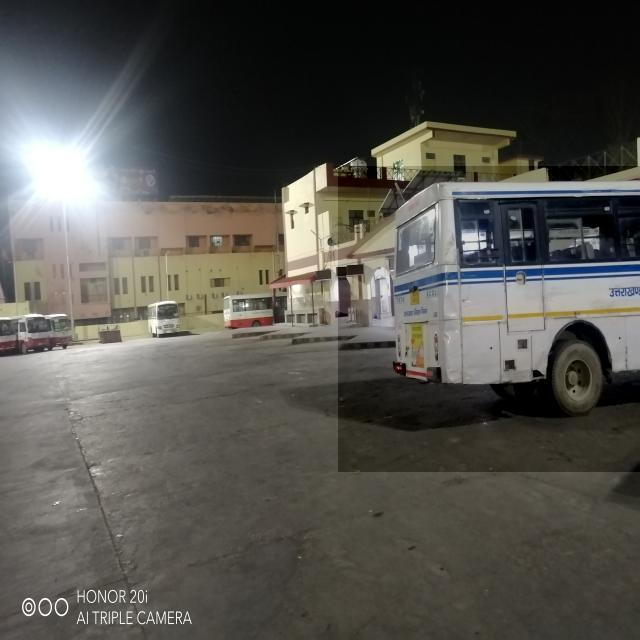Bus: (338, 166, 640, 472)
